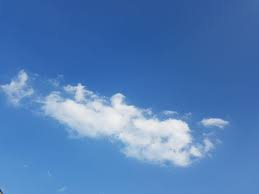sky: (1, 2, 259, 193)
